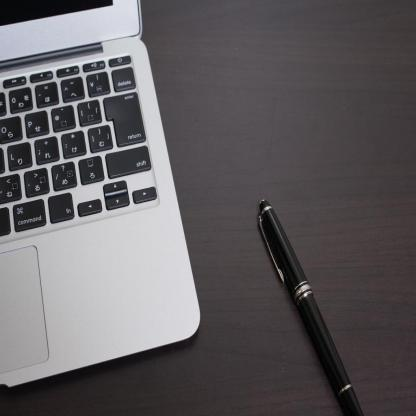board: (0, 0, 199, 394)
